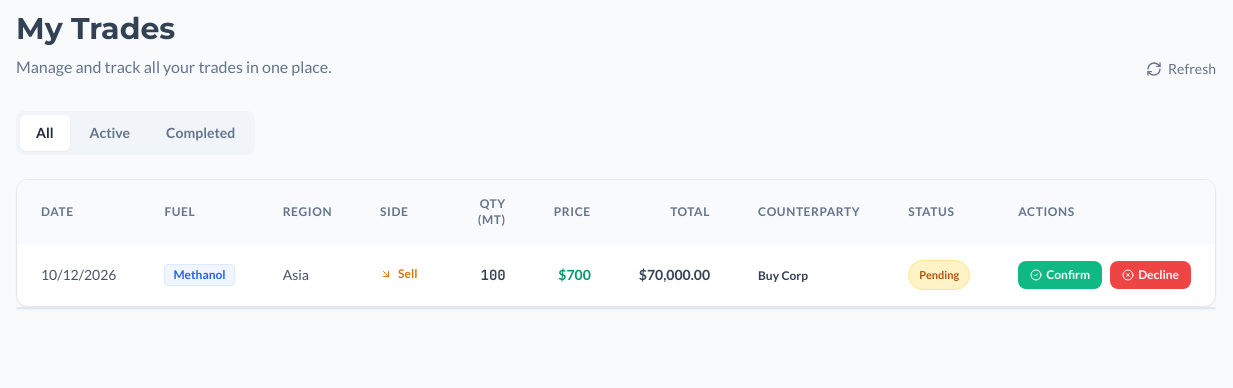
KYC execution gate on trade actions › shows the localized reason and the /kyc link when a confirmation is blocked
Click the button "Confirm" at (1060, 275), box [1018,261,1102,289]
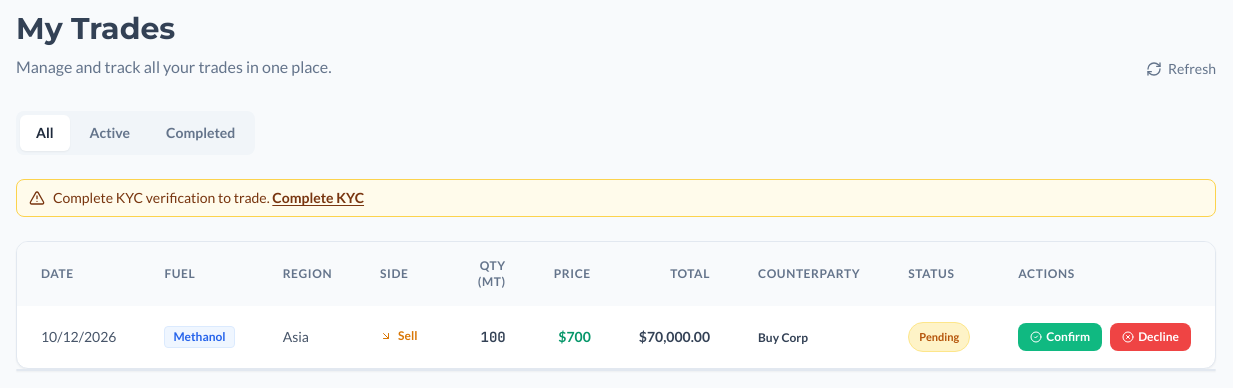
Now the text "Complete KYC verification to trade." is shown, box [53,189,270,206]
